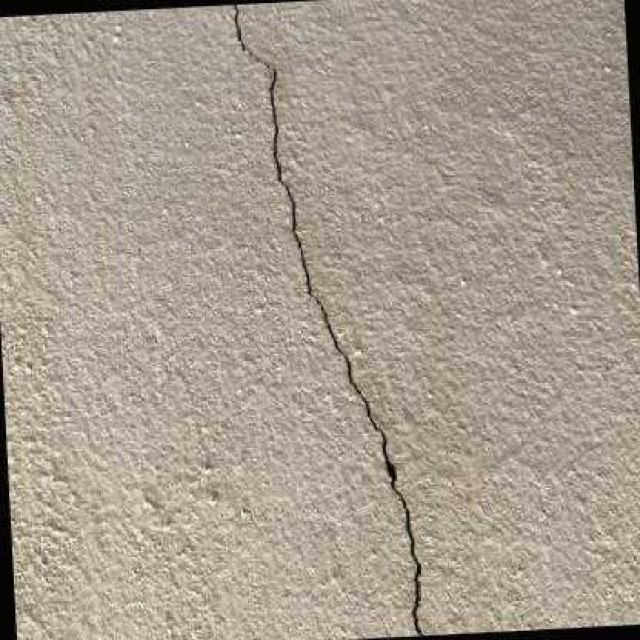D00: (219, 4, 432, 636)
